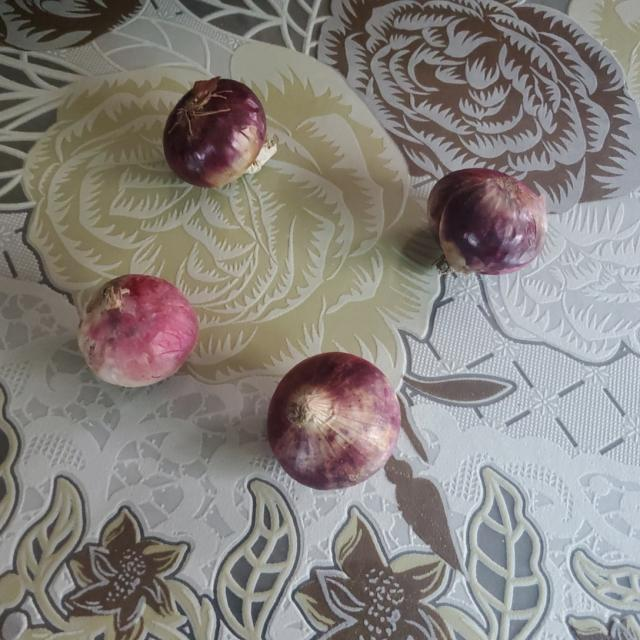onion: (268, 353, 402, 489), (84, 275, 198, 387), (425, 168, 549, 270), (164, 78, 268, 188)
